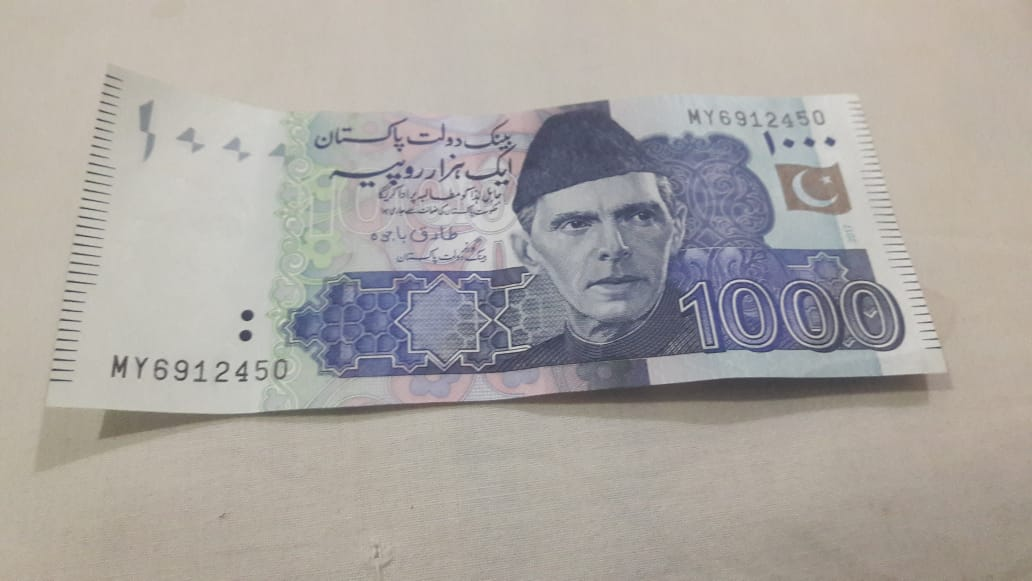1000 rupee: (58, 58, 942, 440)
